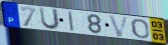7: (20, 6, 38, 28)
8: (86, 14, 103, 35)
I: (67, 10, 76, 33)
O: (131, 18, 151, 40)
U: (38, 7, 61, 31)
V: (108, 15, 131, 38)
